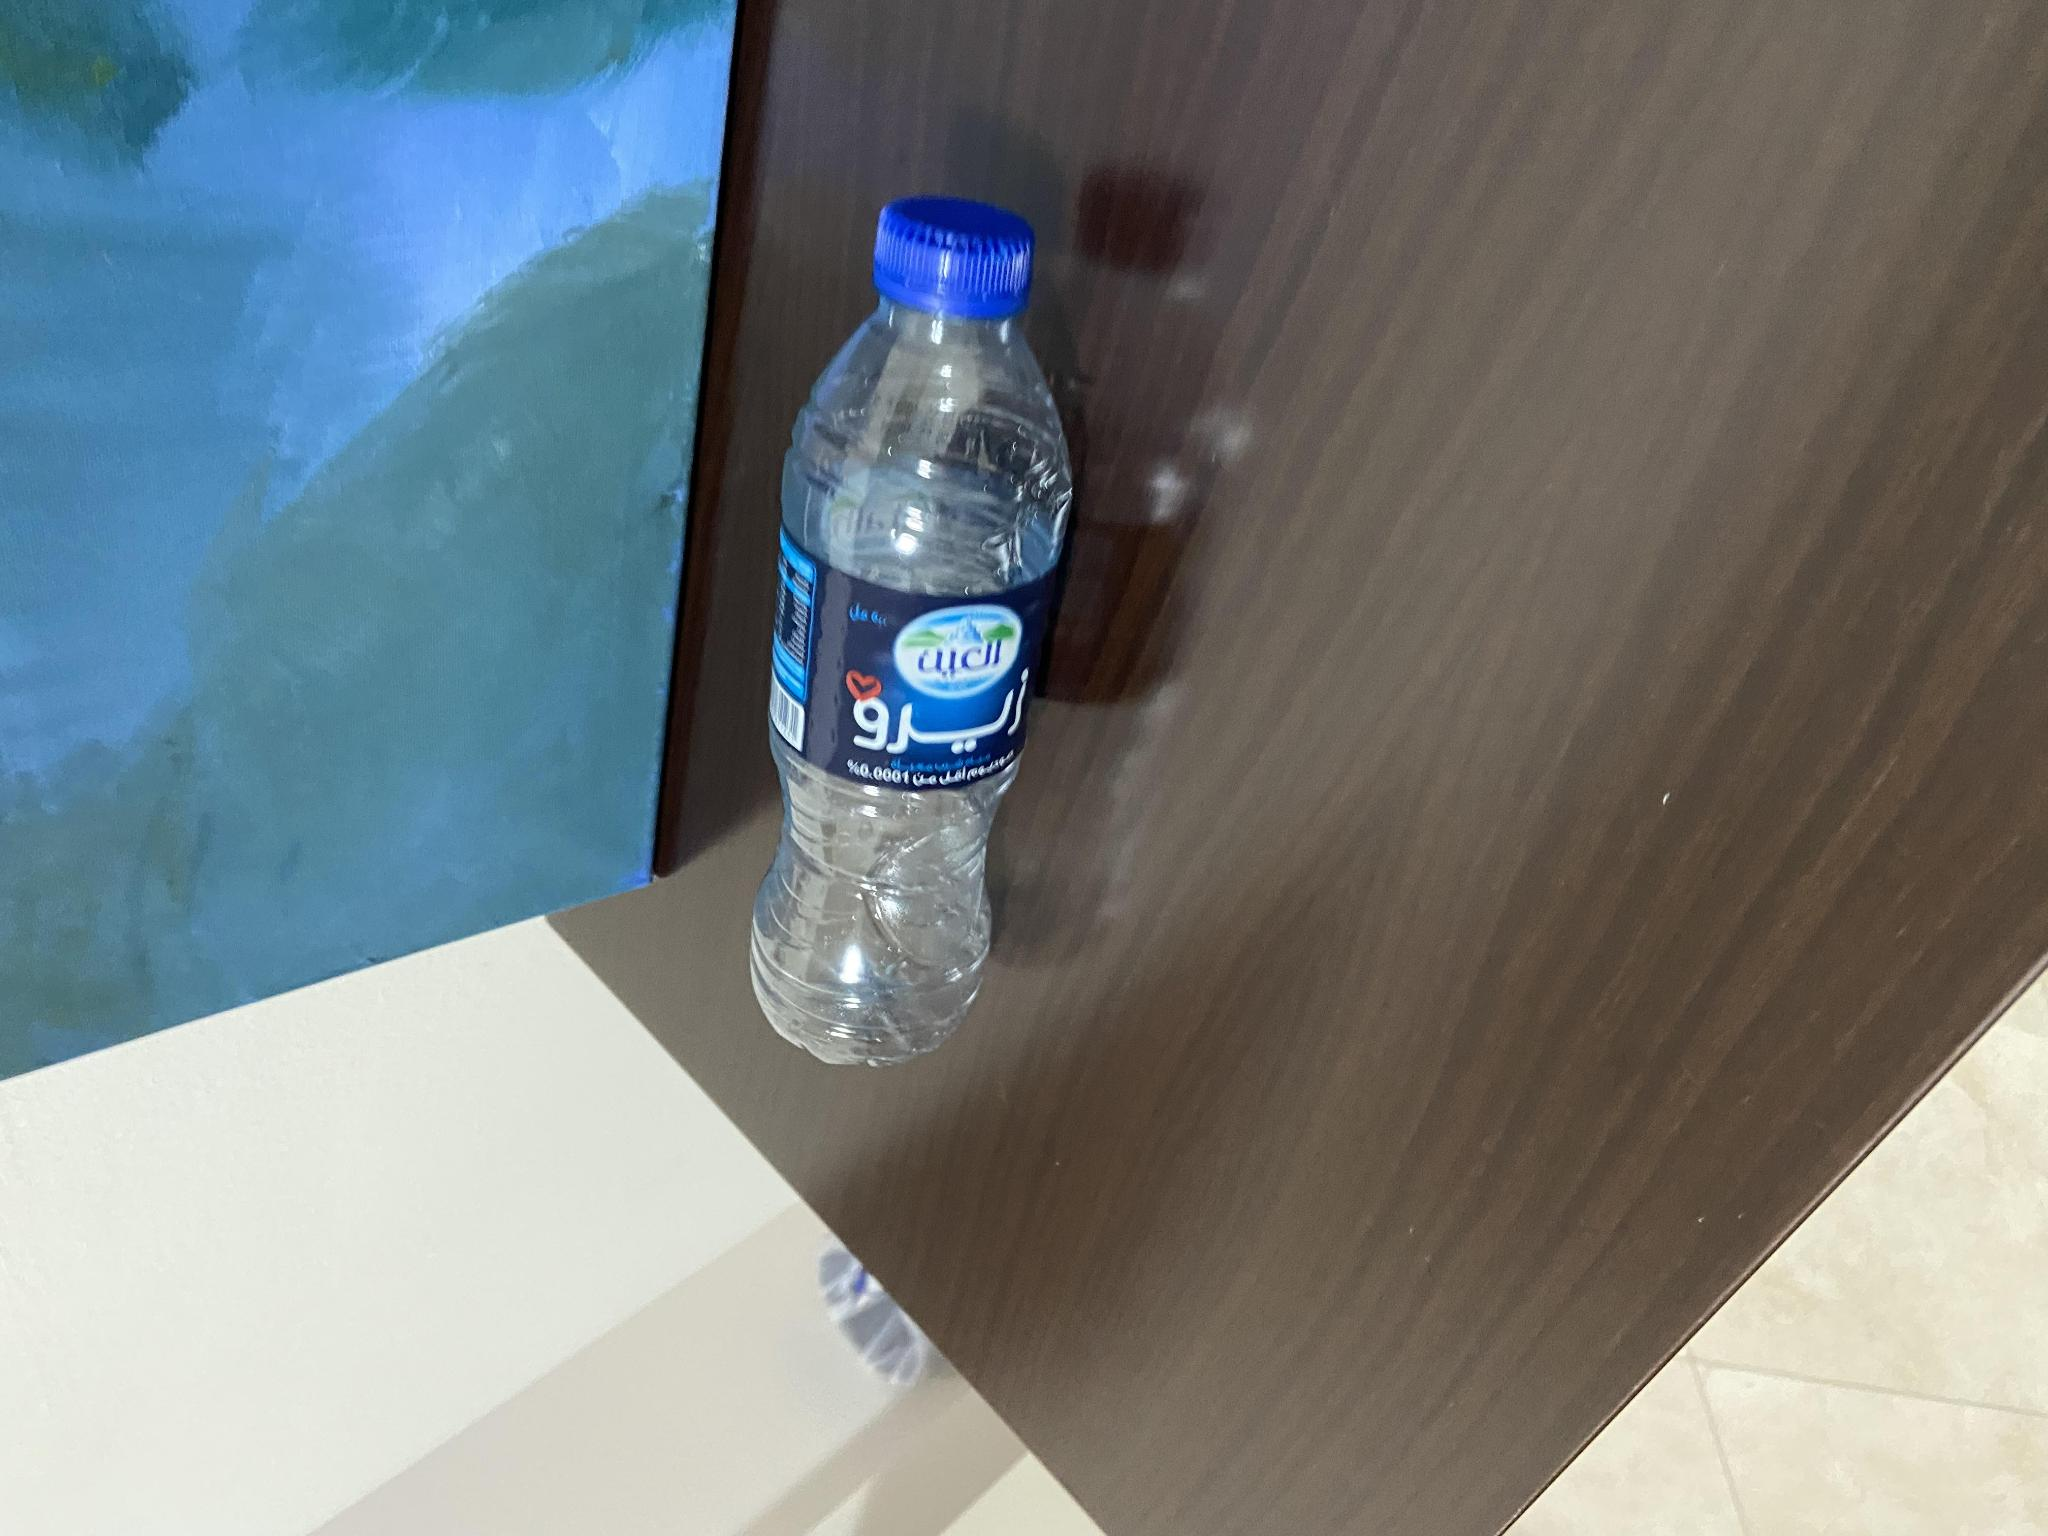bottle: (737, 195, 1121, 1065)
